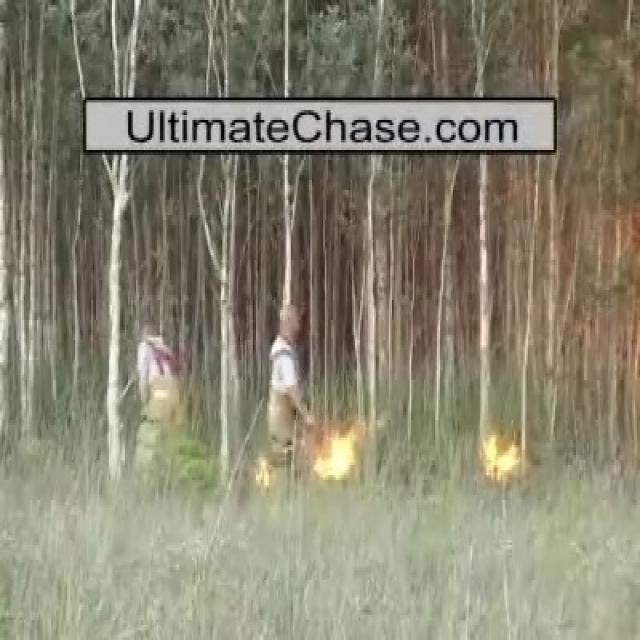fire: (481, 437, 516, 480), (316, 444, 352, 477)
